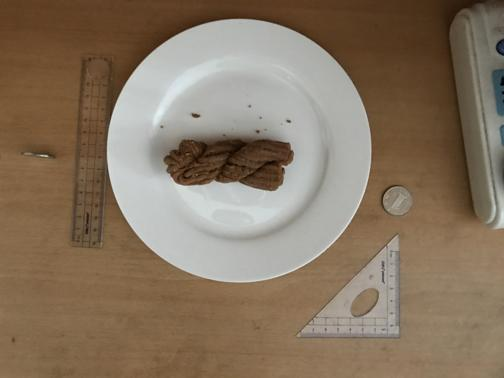coin: (381, 187, 413, 216)
fired_dough_twist: (163, 138, 292, 191)
